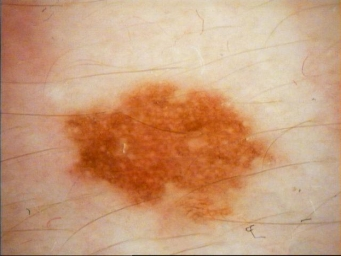melanoma: (68, 81, 276, 219)
